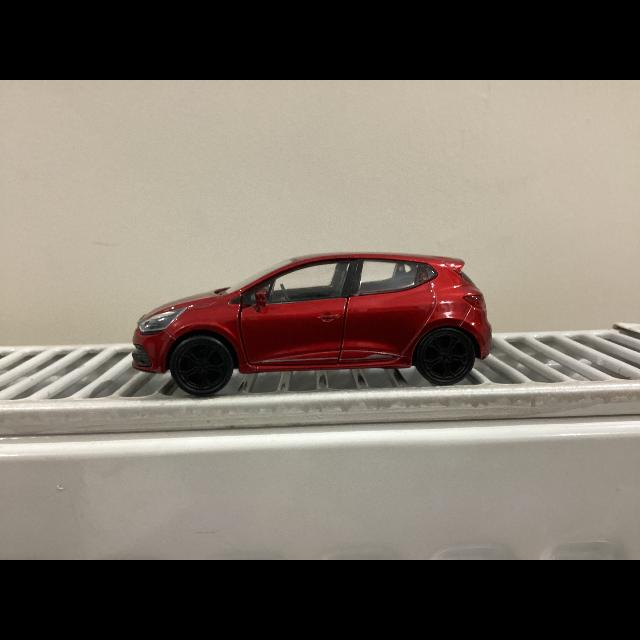Dogru_Jant: (176, 340, 226, 390), (423, 334, 471, 378)
